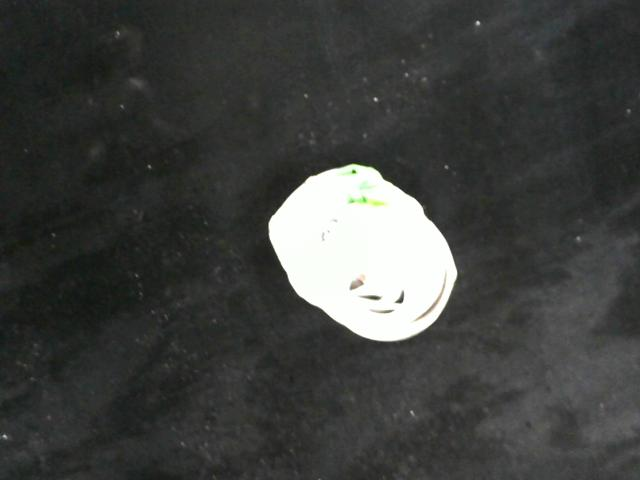can: (266, 155, 463, 351)
